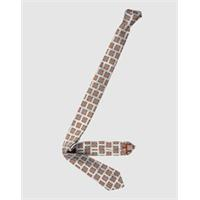tie: (61, 8, 142, 190)
